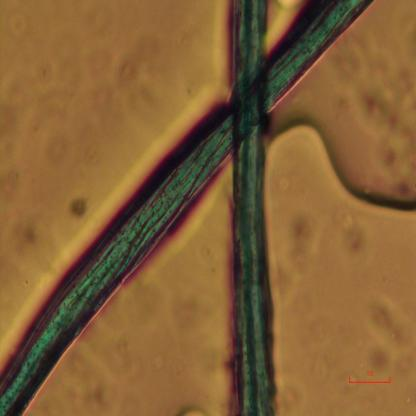Air bubble: (269, 104, 416, 224)
Background material: (352, 57, 416, 186), (270, 206, 364, 282), (358, 284, 403, 381), (111, 35, 161, 114), (158, 290, 209, 347), (0, 98, 27, 145), (62, 179, 90, 222), (78, 376, 110, 412), (0, 173, 27, 207)
Microfibre: (0, 0, 375, 415), (229, 0, 277, 415)
